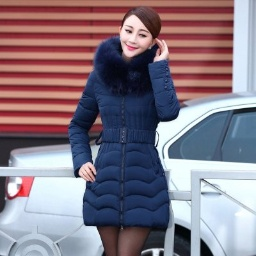face: (117, 5, 162, 57)
